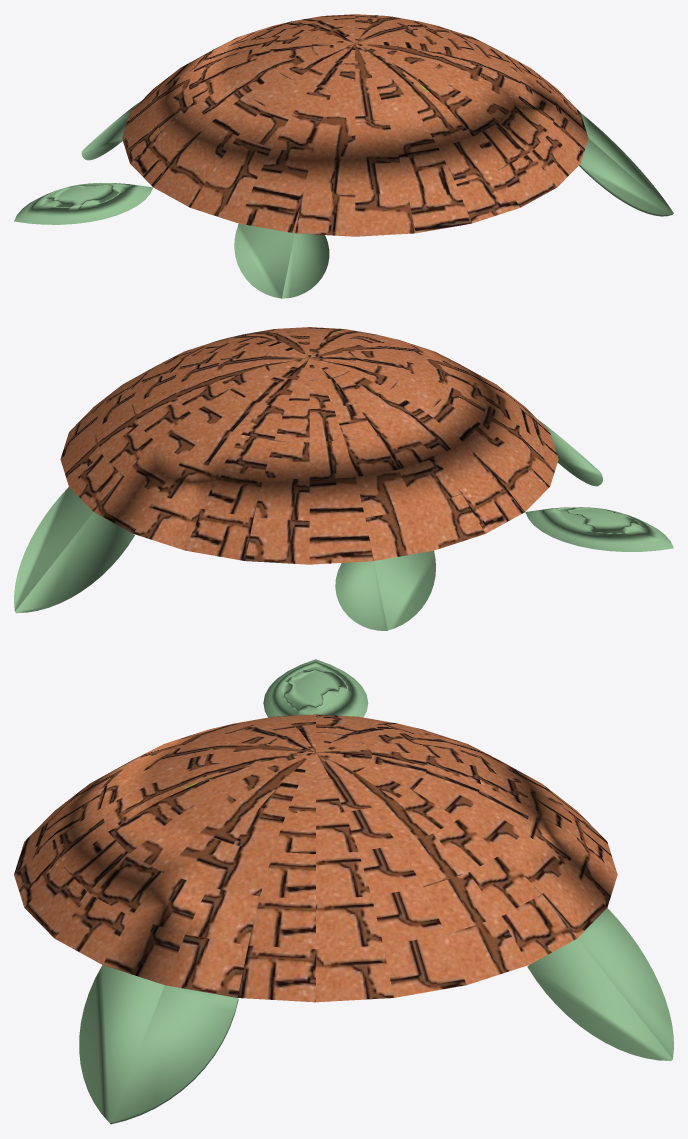
File: Sea turtle.dae
3 views of the same model, one above another, from view 1: azimuth 30°, elevation 25°; view 2: azimuth 150°, elevation 25°; view 3: azimuth 270°, elevation 25° (orthographic). The views are drawn at different scales.
Parts seen in each view (by area): view 1: Body, fin2, head, Component_1_1, fin1; view 2: Body, fin, fin1, head, fin2; view 3: Body, Component_1_1, fin, head.
Boxes of the visible parts, x1,y1,x2,y2 form: Body: (122, 14, 588, 236); fin2: (234, 223, 329, 298); head: (14, 182, 152, 224); Component_1_1: (579, 113, 673, 216); fin1: (81, 101, 140, 160); Body: (60, 327, 558, 564); fin: (14, 487, 134, 613); fin1: (335, 550, 435, 630); head: (525, 507, 673, 551); fin2: (538, 420, 602, 486); Body: (14, 714, 617, 1002); Component_1_1: (79, 965, 238, 1124); fin: (527, 908, 673, 1061); head: (263, 659, 368, 717).
Size of the model in its own units: 116 by 88.01 by 32.74.
Materials: 4 (1 with a texture image).
